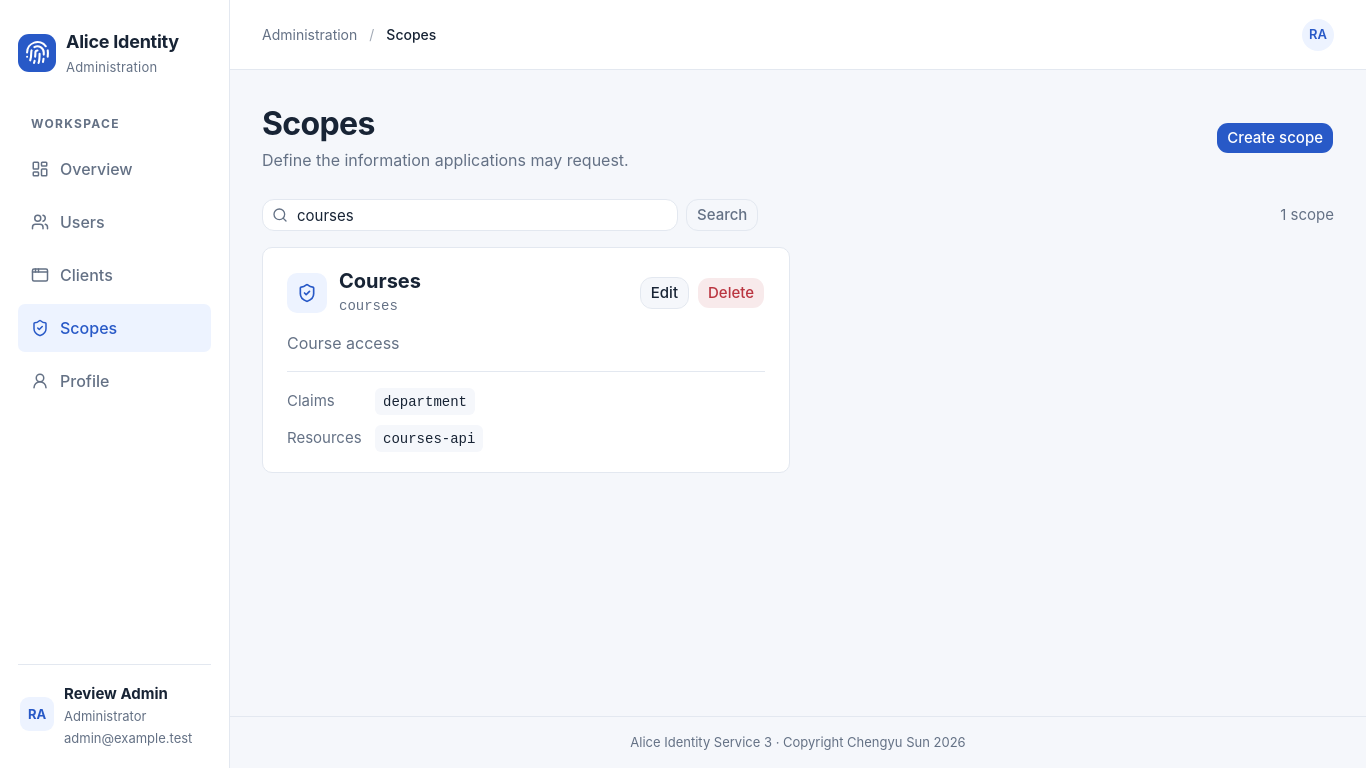
scope definitions › requires exact deletion confirmation and supports cancellation without writing
Click the button with aria-label "Delete scope courses" at coordinates (731, 292), box [697,276,765,308]
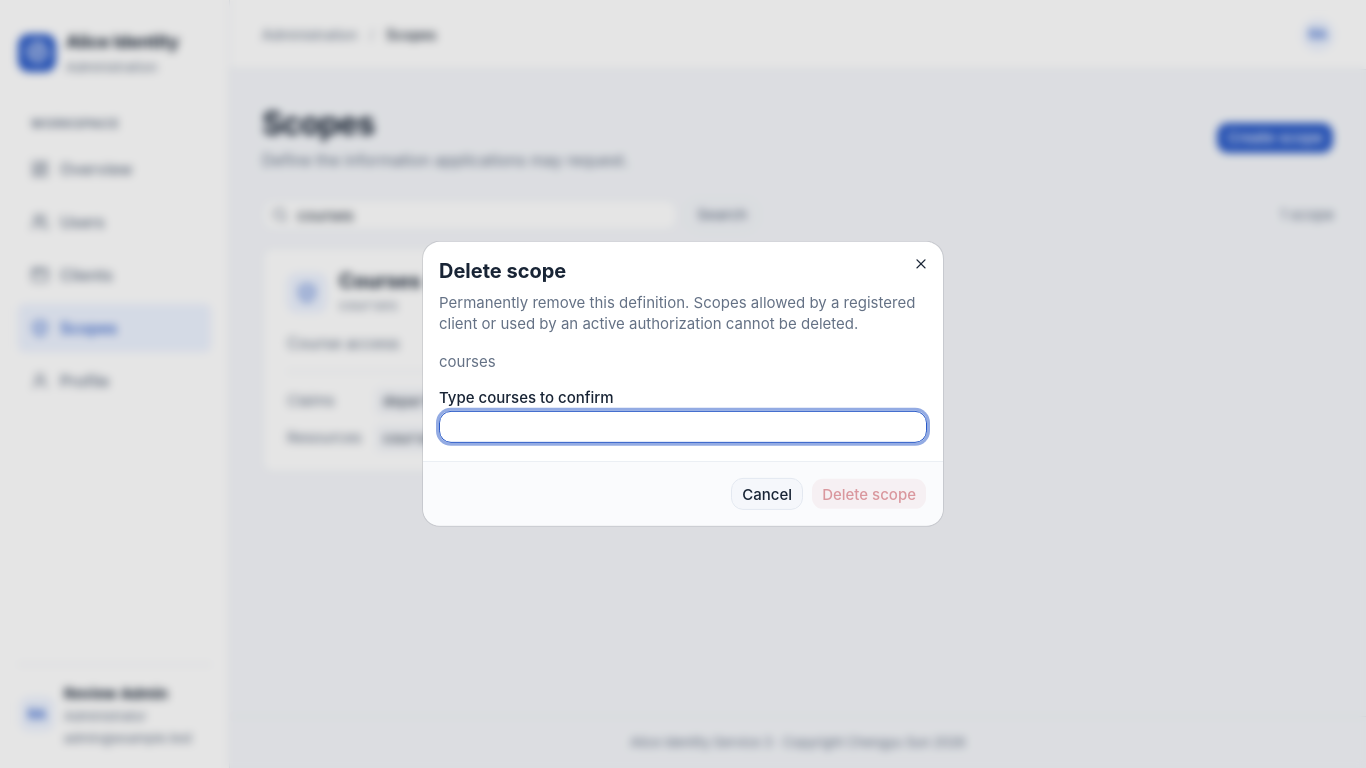
Expected: the button "Delete scope" is disabled, [811,478,927,510]
Click the button "Cancel" at coordinates (767, 494), box [731,478,803,510]
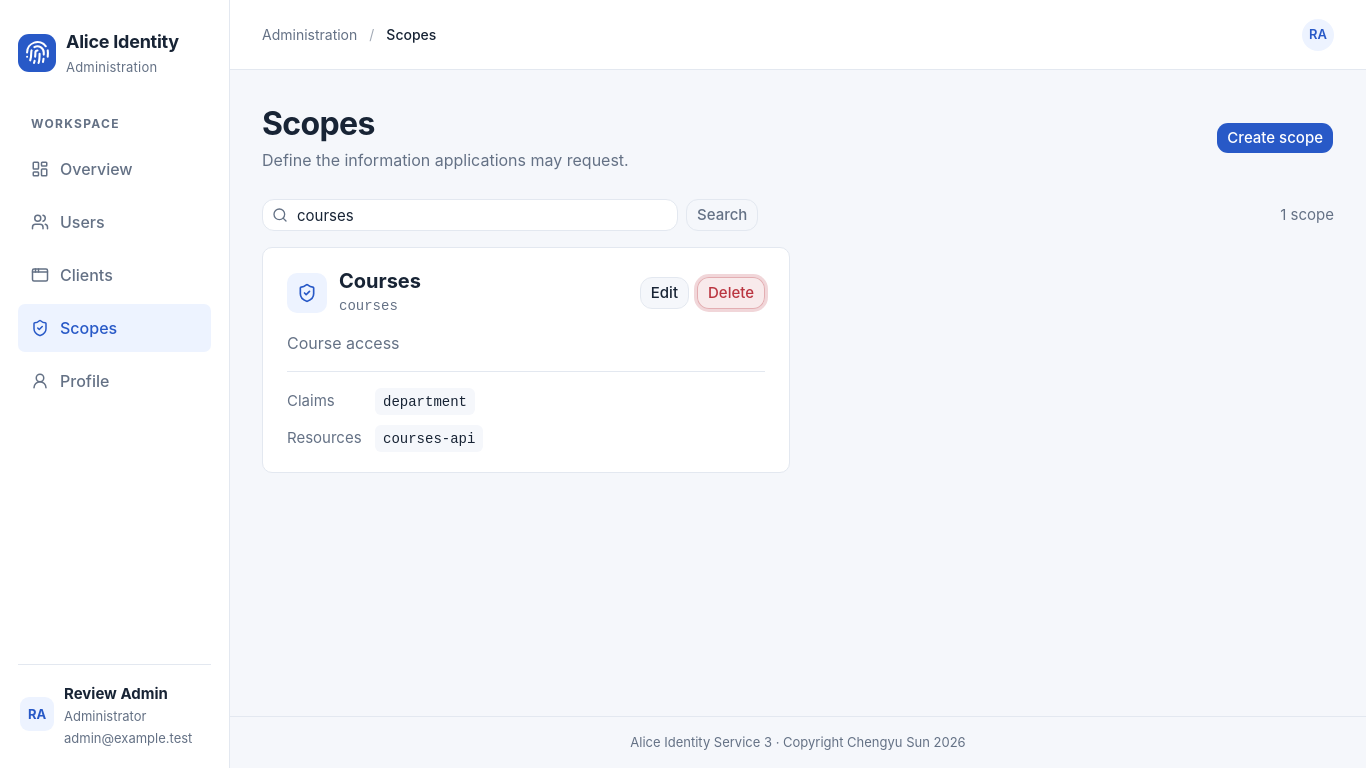
Click the button with aria-label "Delete scope courses" at coordinates (731, 292), box [697,276,765,308]
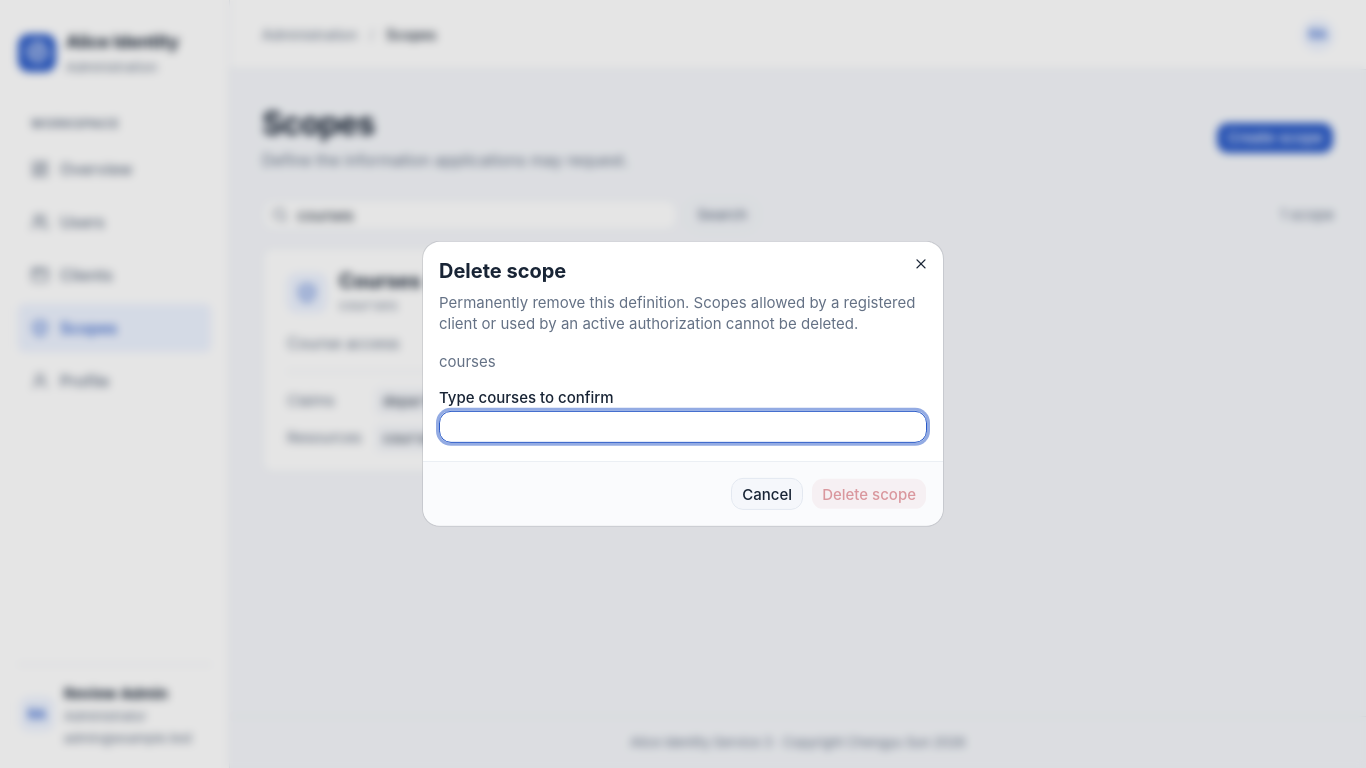
Type "courses" into the field labelled "Type courses to confirm" at coordinates (683, 427), box [439,411,927,443]
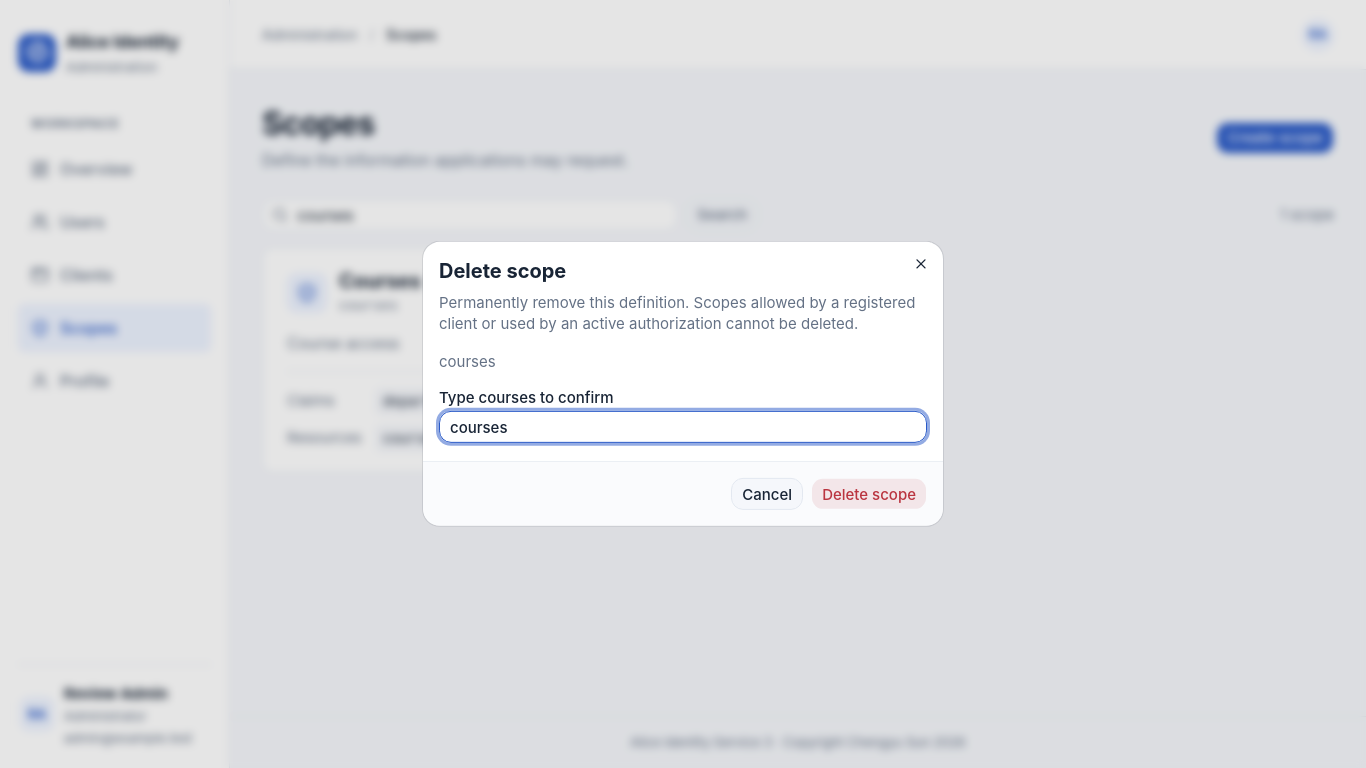
Click the button "Delete scope" at coordinates (869, 494), box [811,478,927,510]
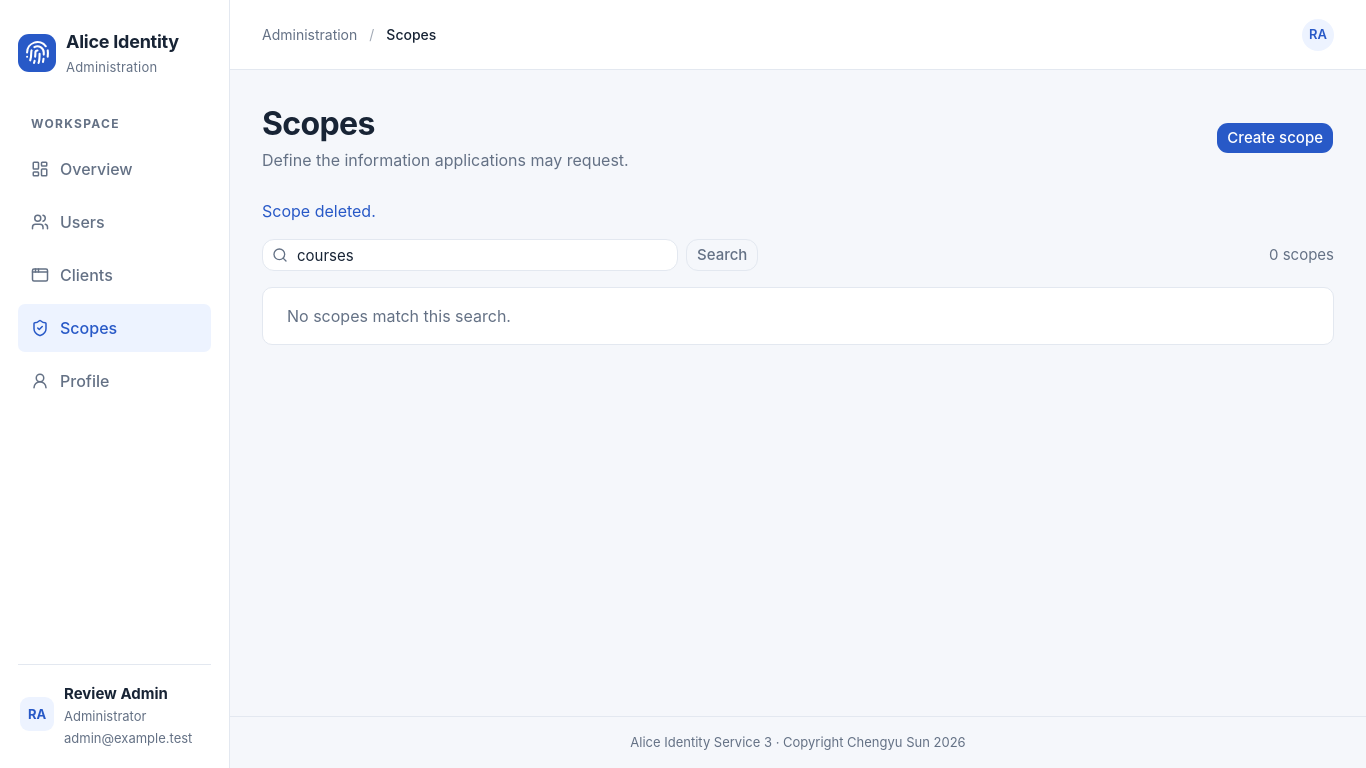
Expected: the search field named "Search scopes" holds "courses", [262,239,678,271]
Expected: the text "No scopes match this search." is shown, [262,287,1334,345]
Expected: the text "Scope deleted." is shown, [262,201,376,221]
